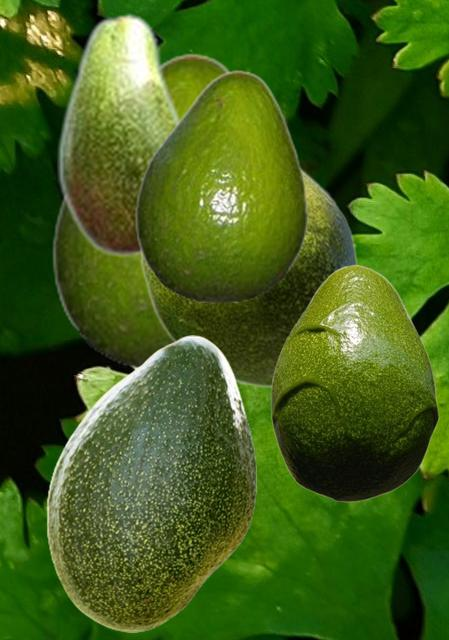avocado: (46, 335, 255, 631), (51, 52, 233, 368), (139, 168, 357, 388), (134, 69, 307, 301), (270, 264, 438, 501), (57, 11, 182, 258)
